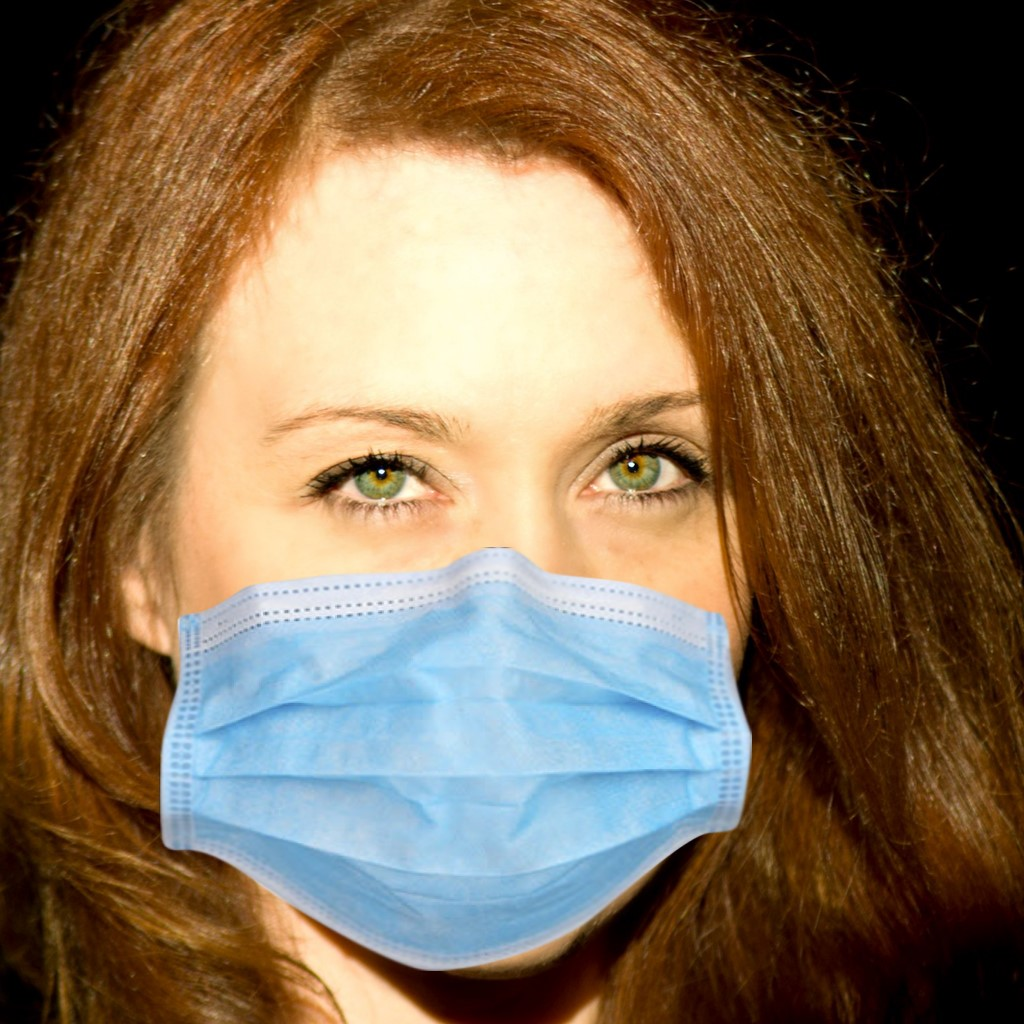con_mascara: (145, 111, 766, 967)
